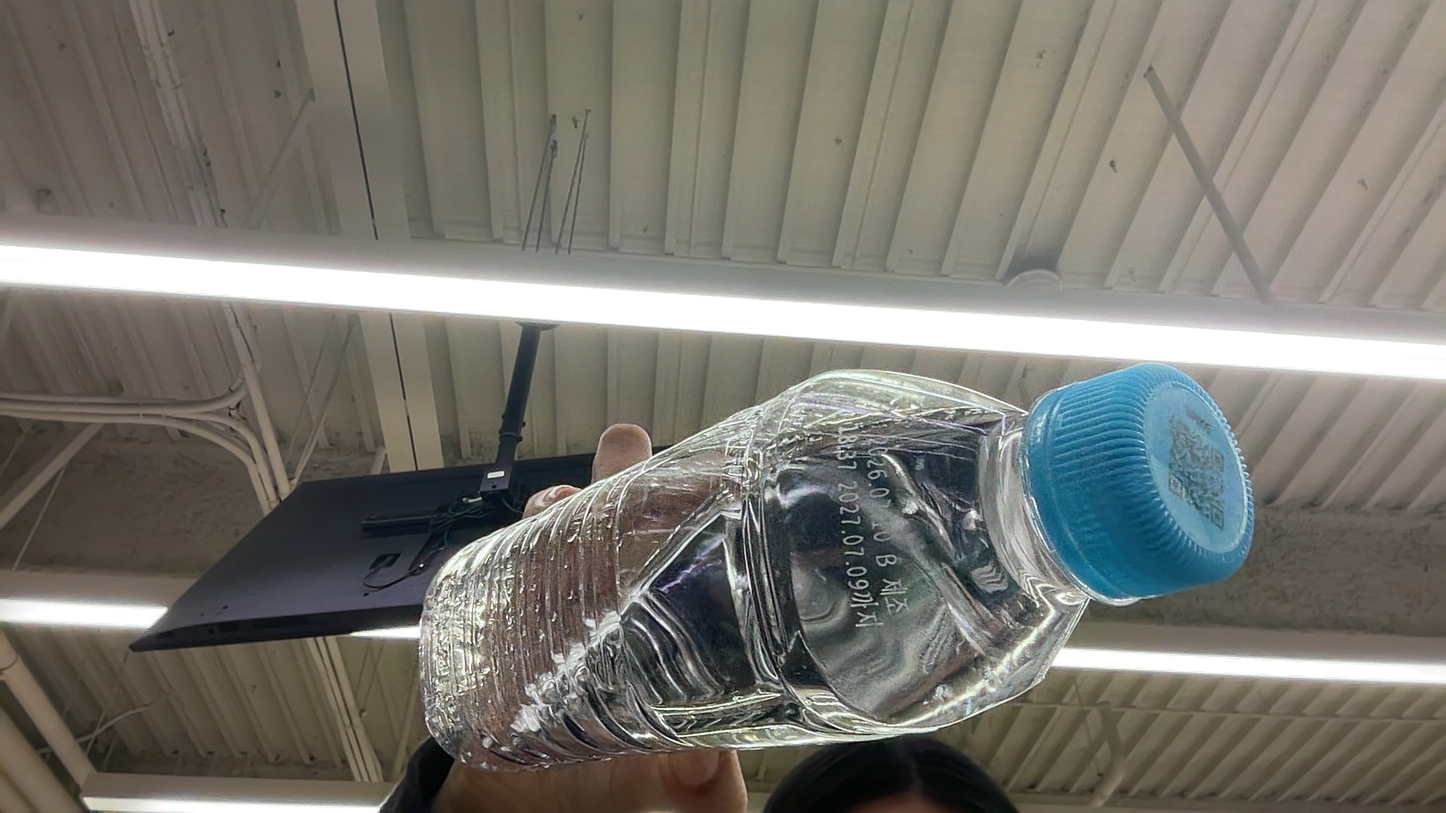Plastic: (1004, 359, 1255, 600)
